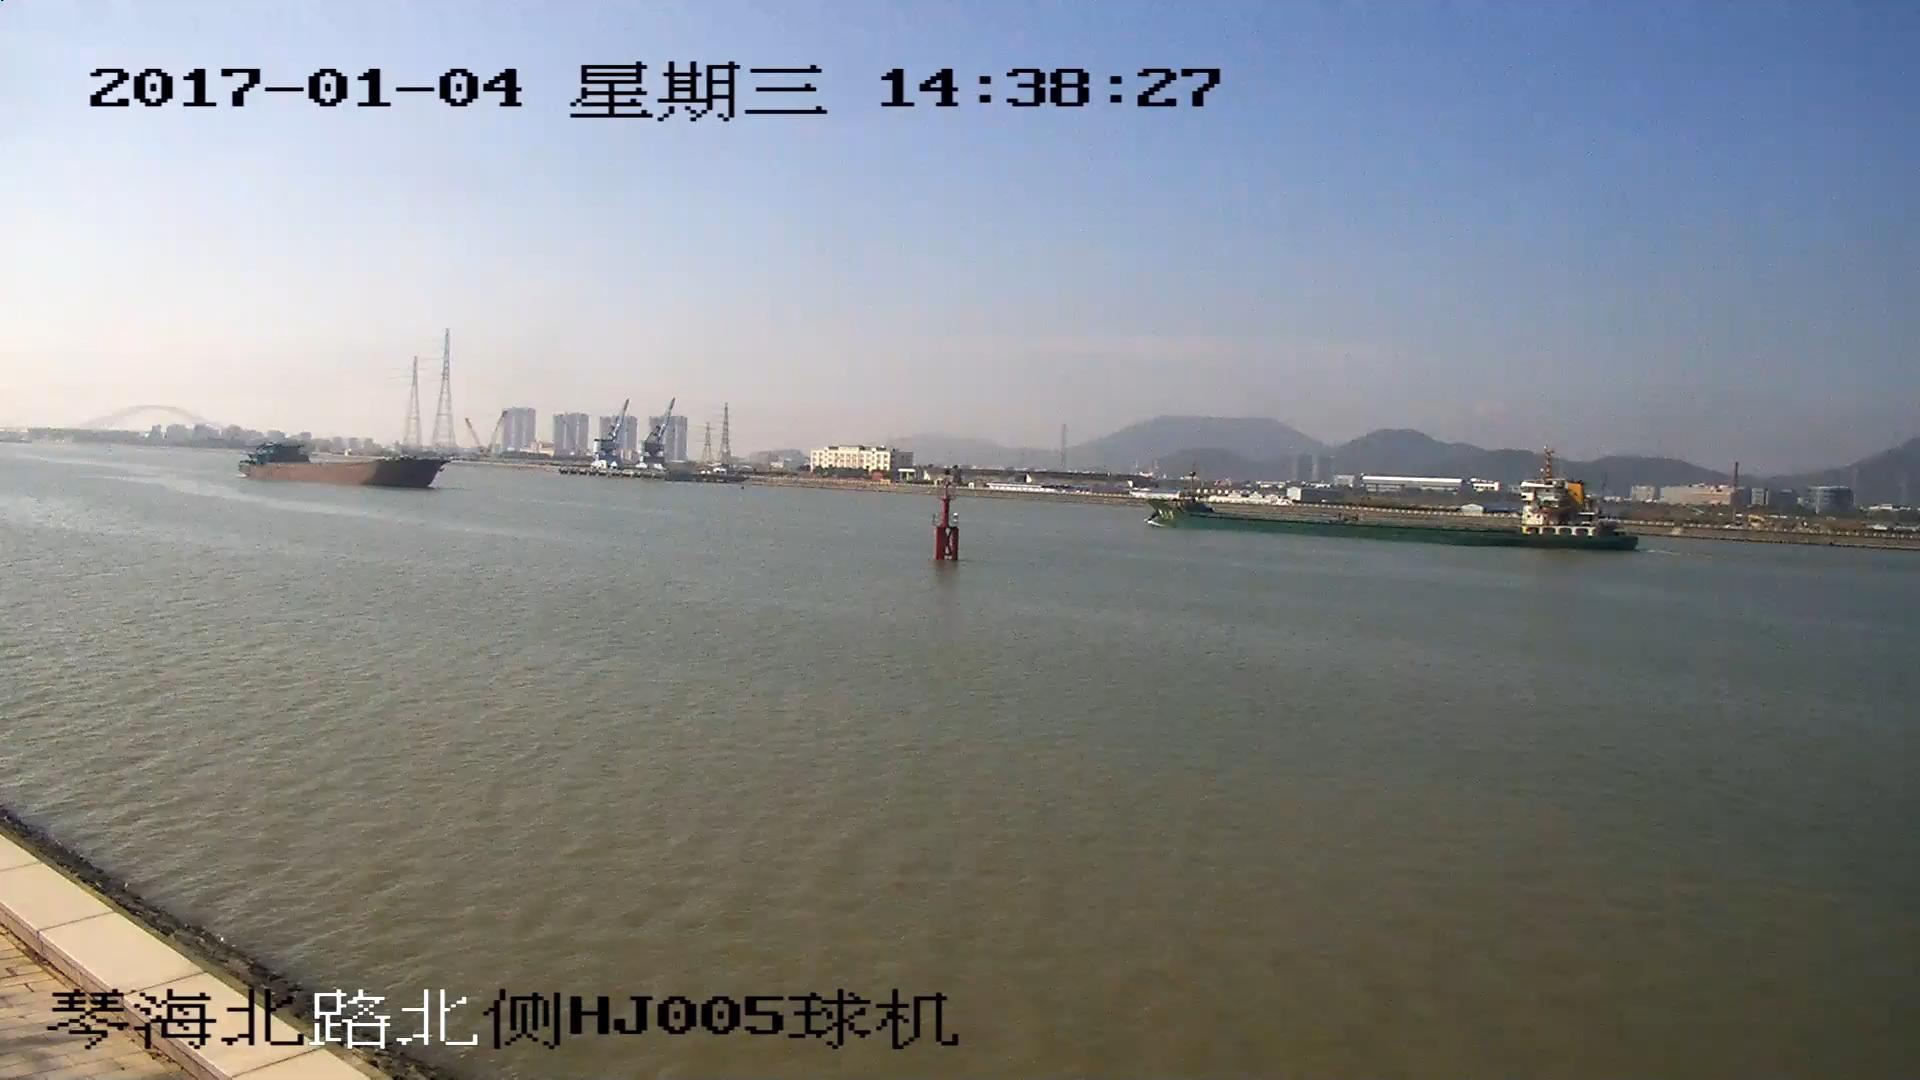bulk cargo carrier: (242, 440, 442, 492)
general cargo ship: (1140, 462, 1640, 553)
